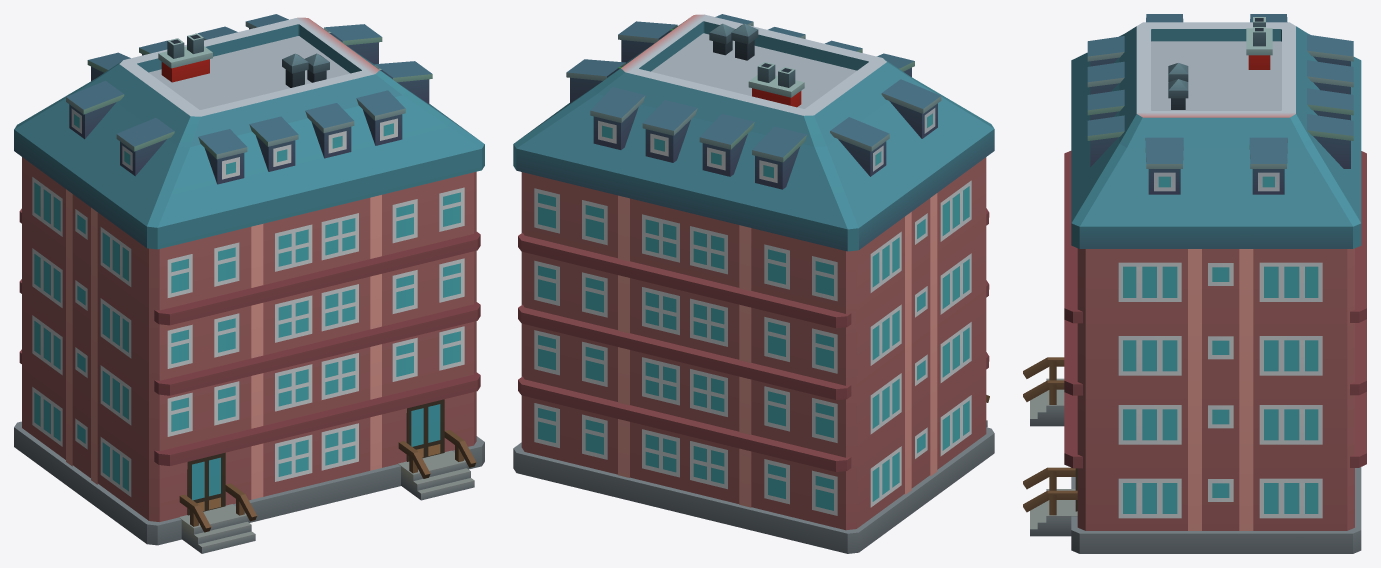
Rendered from Building_cartoon_38.fbx.
3 views of the same model, side by side, from view 1: azimuth 30°, elevation 25°; view 2: azimuth 150°, elevation 25°; view 3: azimuth 270°, elevation 25° (orthographic). The views are drawn at different scales.
Parts seen in each view (by area): view 1: Building_cartoon_38; view 2: Building_cartoon_38; view 3: Building_cartoon_38.
Boxes of the visible parts, x1,y1,x2,y2 form: Building_cartoon_38: [14, 14, 484, 553]; Building_cartoon_38: [513, 14, 994, 553]; Building_cartoon_38: [1023, 14, 1366, 553].
Bounding box in the file's own units: 1663 × 1929 × 1422.
